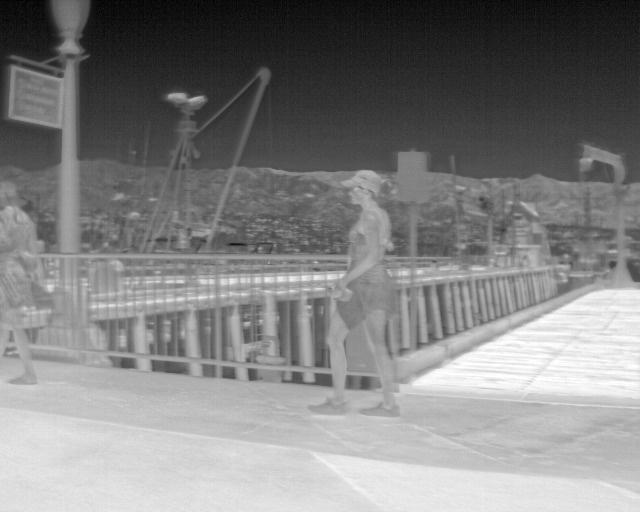empty: (308, 165, 399, 421), (0, 179, 50, 387)
